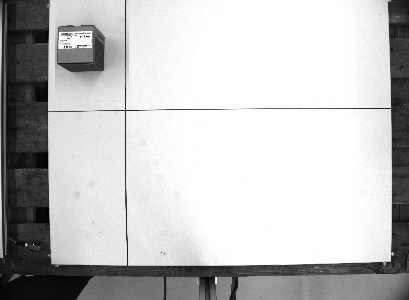b7: (54, 22, 108, 74)
